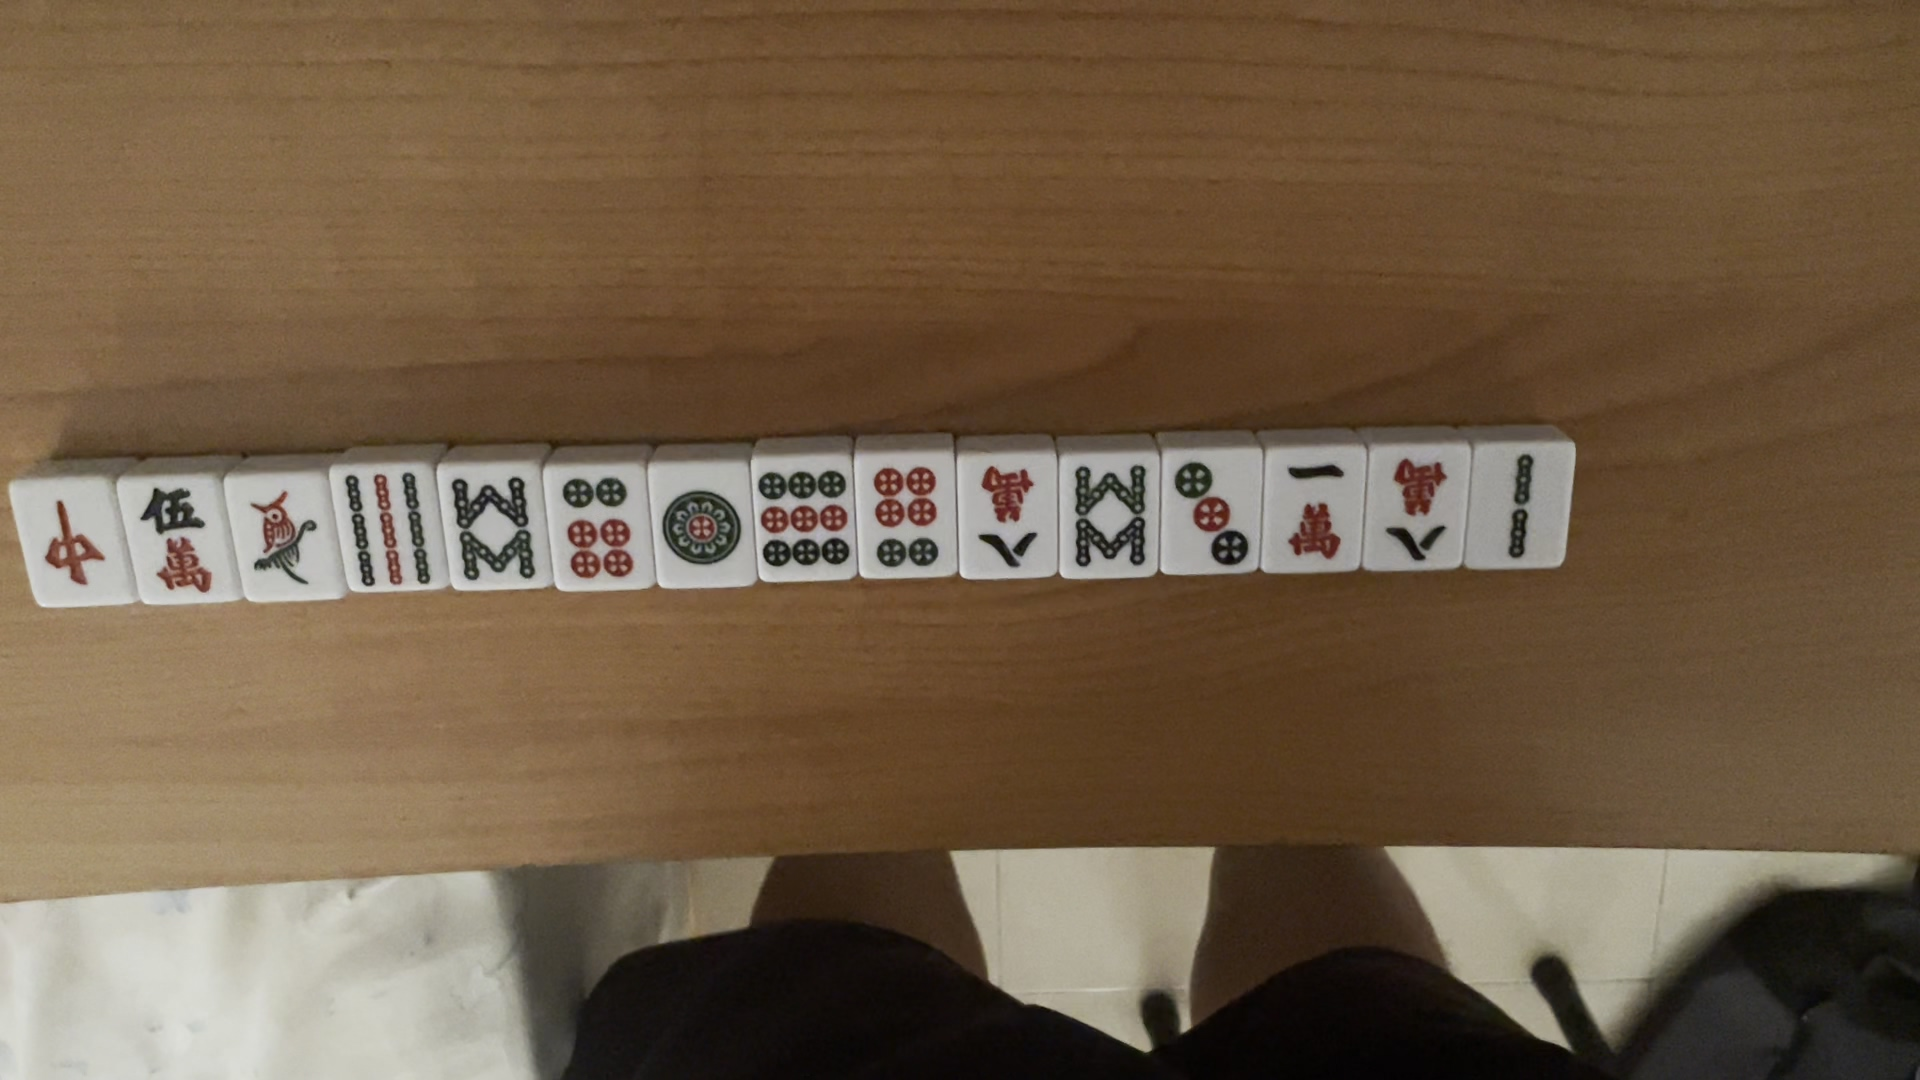b-1: (237, 483, 323, 596)
b-2: (1489, 436, 1552, 566)
b-8: (447, 459, 549, 585), (1065, 456, 1155, 574)
b-9: (342, 462, 435, 593)
c-1: (1271, 459, 1352, 560)
c-5: (138, 483, 218, 597)
c-8: (965, 451, 1058, 575), (1383, 456, 1457, 570)
d-1: (661, 479, 745, 572)
d-3: (1174, 454, 1247, 576)
d-6: (555, 463, 645, 580), (868, 459, 938, 583)
d-9: (758, 464, 852, 572)
honors-red: (32, 487, 116, 592)
